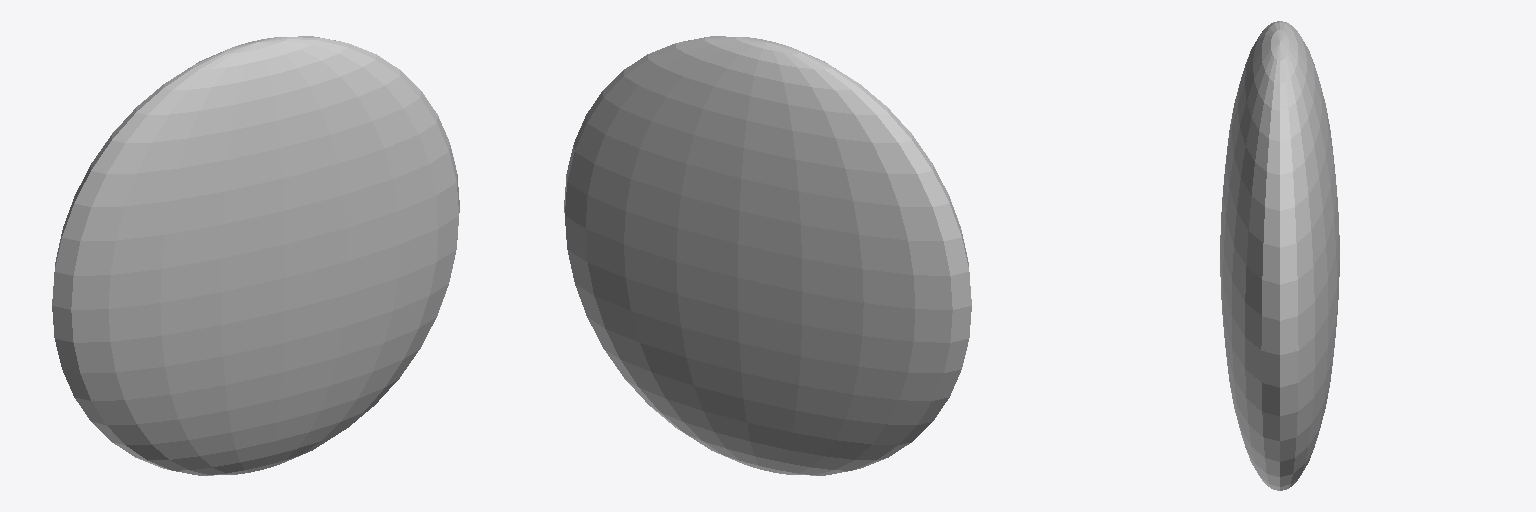
The model's file is portal.obj.
The picture shows the model from 3 angles: view 1: azimuth 30°, elevation 25°; view 2: azimuth 150°, elevation 25°; view 3: azimuth 270°, elevation 25°; orthographic projection.
Parts seen in each view (by area): view 1: pSphere1; view 2: pSphere1; view 3: pSphere1.
Boxes of the visible parts, x1,y1,x2,y2 form: pSphere1: [52, 36, 459, 475]; pSphere1: [564, 36, 971, 475]; pSphere1: [1220, 21, 1339, 490].
Bounding box in the file's own units: 1.79 × 1.79 × 0.4546.